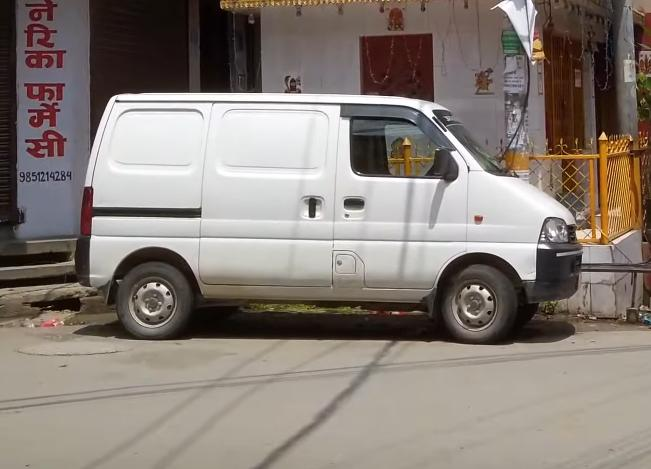van: (86, 75, 591, 353)
